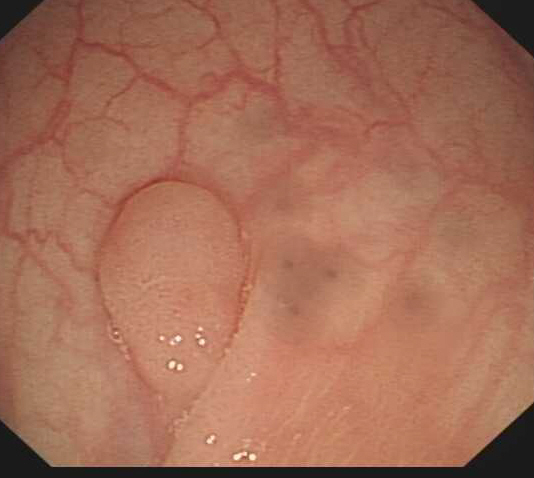adenoma: (90, 173, 252, 405)
